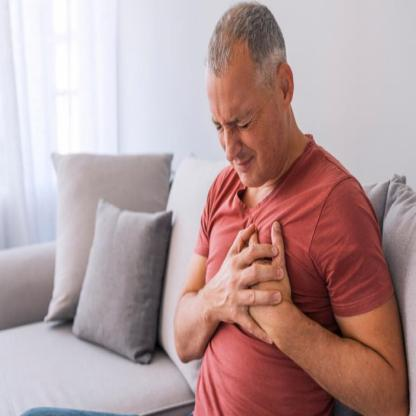pain: (213, 108, 257, 134)
